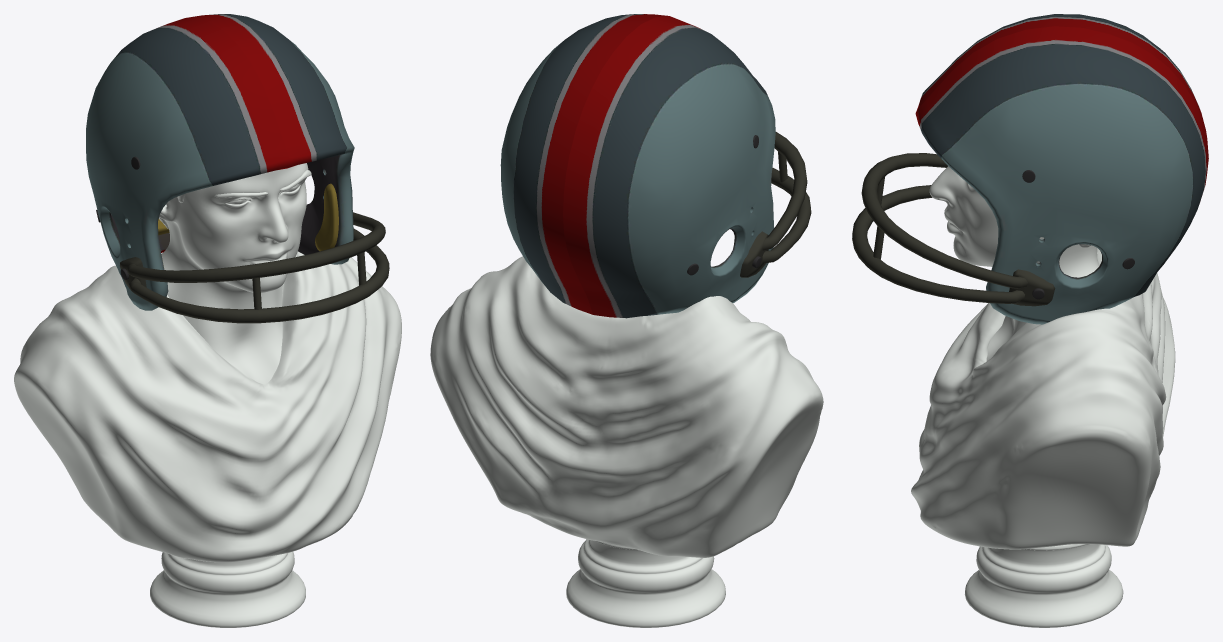
The model's file is 1_helmet.fbx.
The picture shows the model from 3 angles, left to right: view 1: azimuth 30°, elevation 25°; view 2: azimuth 150°, elevation 25°; view 3: azimuth 270°, elevation 25°; orthographic projection. The views are drawn at different scales.
Parts seen in each view (by area): view 1: node_id5, node_id8; view 2: node_id5, node_id8; view 3: node_id5, node_id8.
Boxes of the visible parts, left/top/right/bottom form: node_id5: left=14, top=163, right=401, bottom=627; node_id8: left=86, top=14, right=389, bottom=323; node_id5: left=430, top=256, right=823, bottom=627; node_id8: left=500, top=14, right=811, bottom=318; node_id5: left=911, top=166, right=1175, bottom=627; node_id8: left=852, top=14, right=1208, bottom=324.
Size of the model in its own units: 0.3375 by 0.512 by 0.2904.
Materials: 2 (2 with a texture image).
